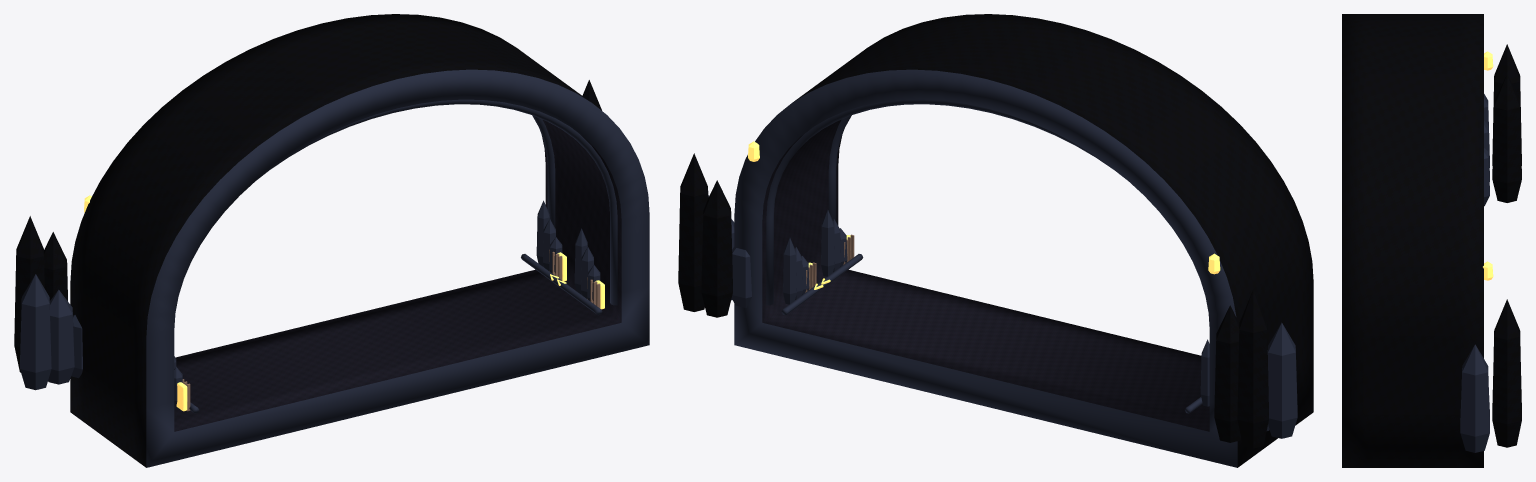
The model's file is portal_exit.glb.
3 views of the same model, side by side, from view 1: azimuth 30°, elevation 25°; view 2: azimuth 150°, elevation 25°; view 3: azimuth 270°, elevation 25° (orthographic). The views are drawn at different scales.
Parts seen in each view (by area): view 1: TunnelGeometry; view 2: TunnelGeometry; view 3: TunnelGeometry.
Part boxes in pixels (bbox=[...]): TunnelGeometry: bbox=[14, 14, 649, 467]; TunnelGeometry: bbox=[678, 14, 1313, 467]; TunnelGeometry: bbox=[1342, 14, 1521, 467].
Bounding box in the file's own units: 18.66 × 9.52 × 5.07.
5 materials, 2 textured.
